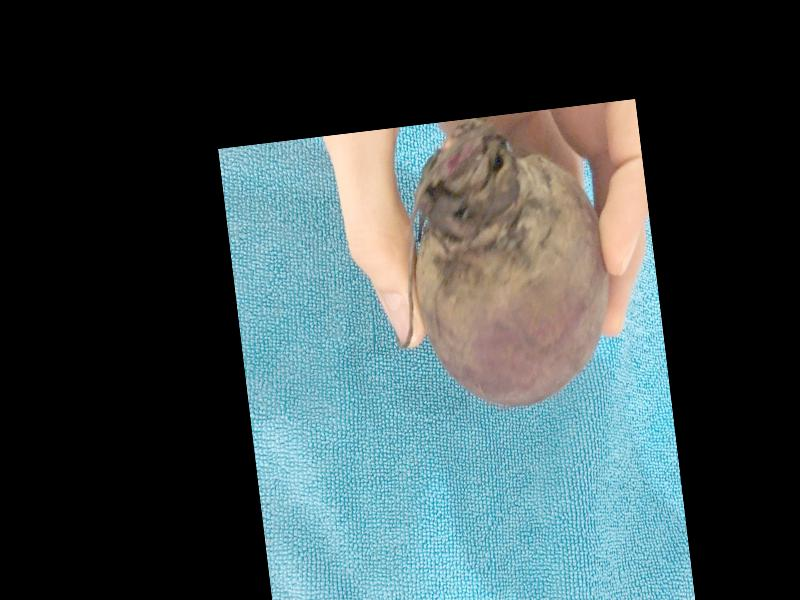Beet: (373, 110, 622, 419)
